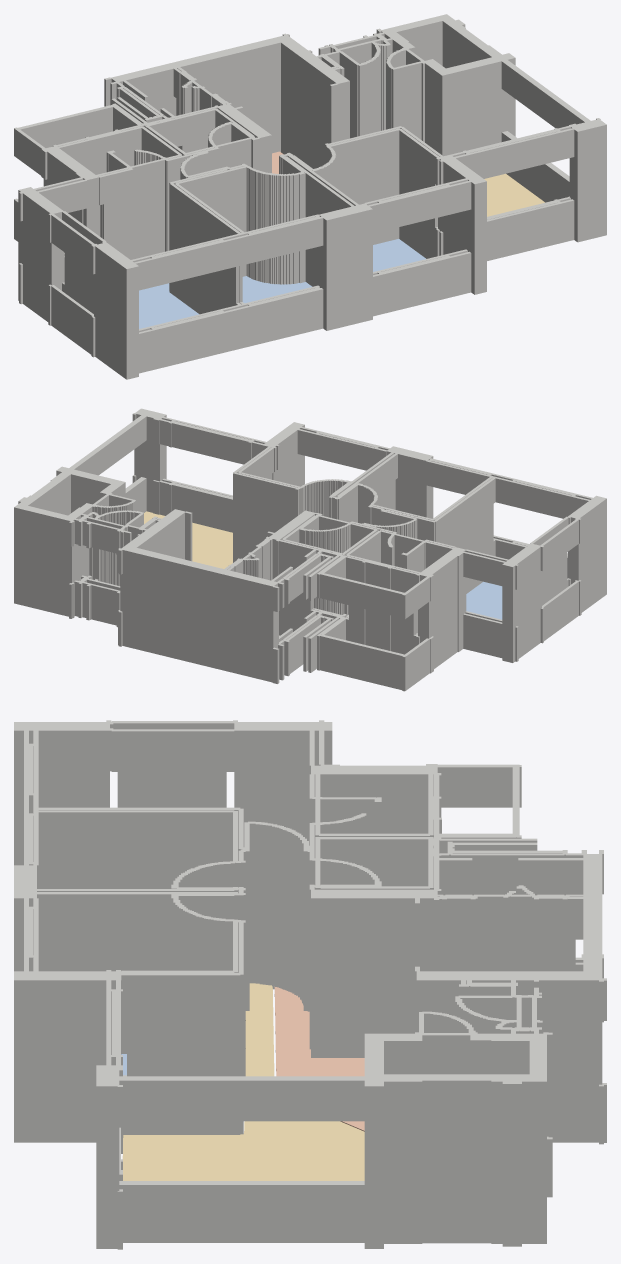
3 views of the same model, one above another, from view 1: azimuth 30°, elevation 25°; view 2: azimuth 150°, elevation 25°; view 3: azimuth 270°, elevation 25° (orthographic). The views are drawn at different scales.
Parts seen in each view (by area): view 1: walls, room:bedroom:7, room:living:3, room:bedroom:1, room:bedroom:6; view 2: walls, room:living:3, room:bedroom:7; view 3: walls, room:living:3, room:kitchen:2.
Part boxes in pixels (left/top/right/bottom): walls: left=14, top=14, right=606, bottom=379; room:bedroom:7: left=139, top=283, right=199, bottom=328; room:living:3: left=484, top=173, right=544, bottom=216; room:bedroom:1: left=373, top=239, right=425, bottom=271; room:bedroom:6: left=242, top=276, right=312, bottom=303; walls: left=14, top=408, right=606, bottom=691; room:living:3: left=144, top=511, right=232, bottom=568; room:bedroom:7: left=466, top=581, right=502, bottom=619; walls: left=14, top=720, right=606, bottom=1249; room:living:3: left=122, top=983, right=364, bottom=1180; room:kitchen:2: left=274, top=986, right=364, bottom=1131.
Bounding box in the file's own units: 13.55 × 2.8 × 9.26.
